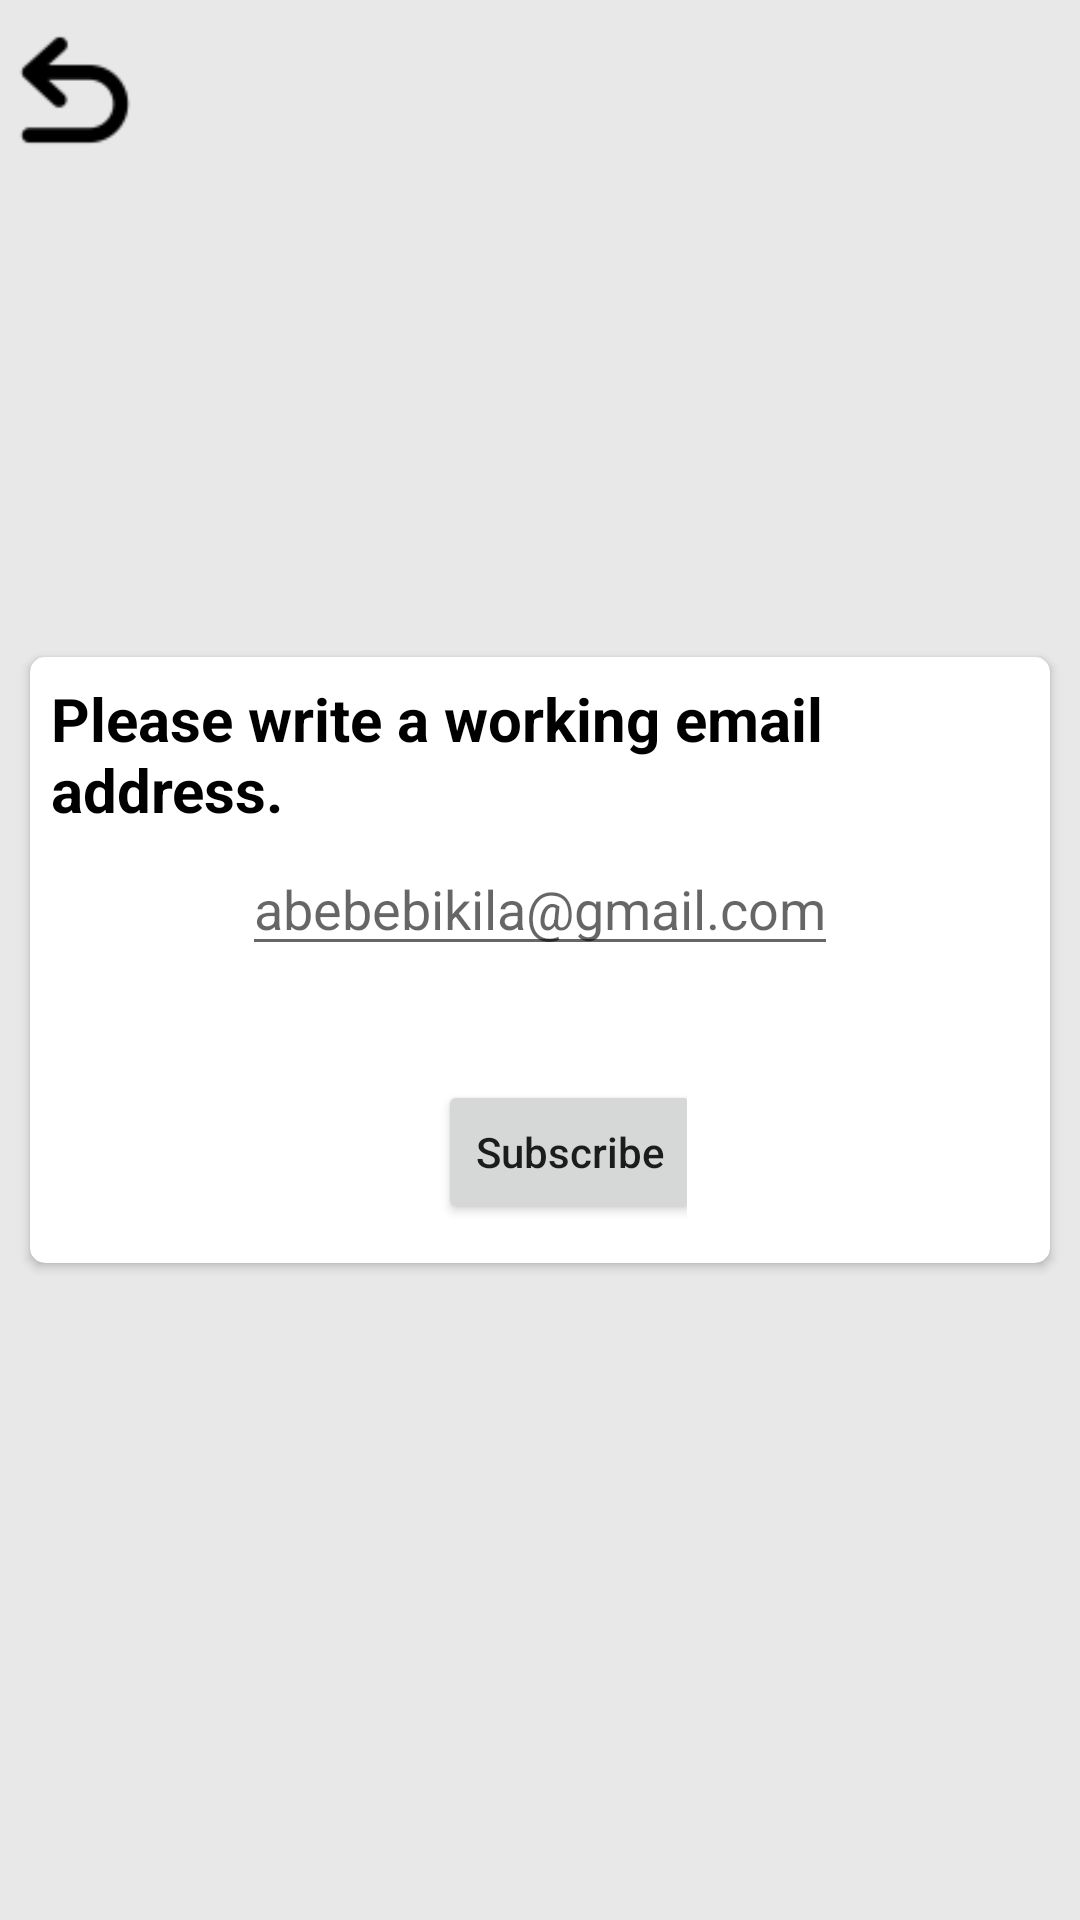

Named icons in this screenshot (1080x1920) and their bounding boxes, box(x1, y1, x2, y2):
back: box(20, 36, 130, 144)
